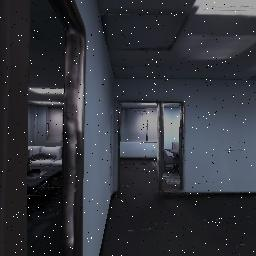door-frame: (0, 0, 93, 256), (103, 99, 190, 200)
